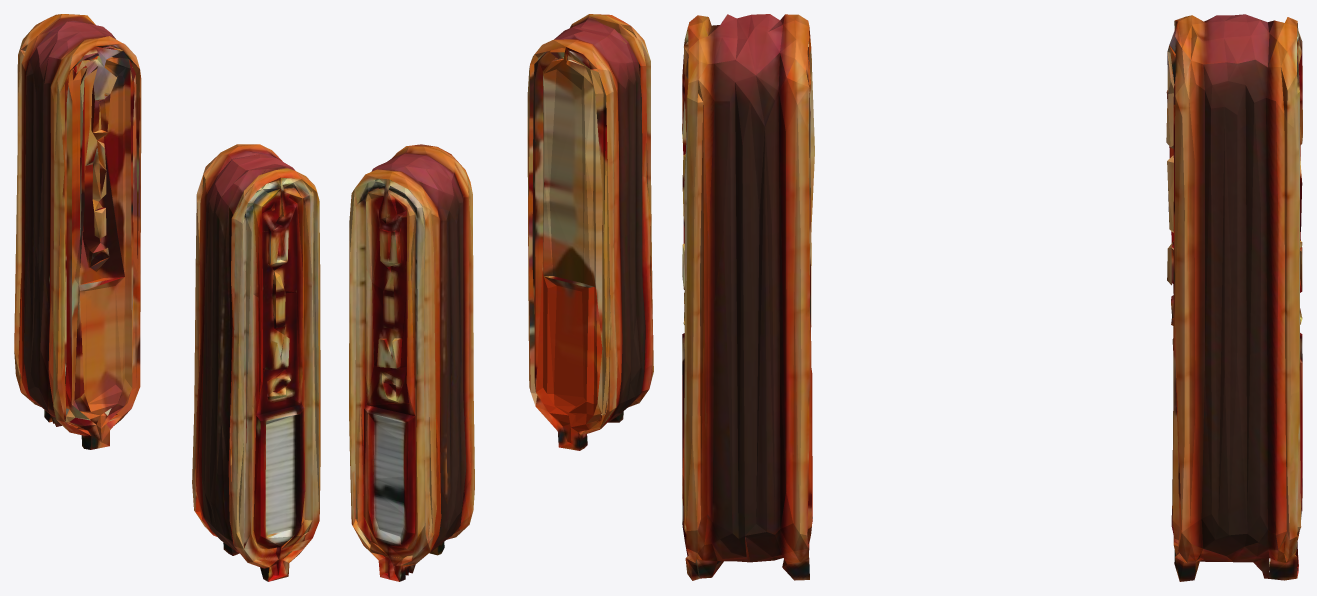
The model's file is cinema_marquee.glb.
3 views of the same model, side by side, from view 1: azimuth 30°, elevation 25°; view 2: azimuth 150°, elevation 25°; view 3: azimuth 270°, elevation 25° (orthographic). The views are drawn at different scales.
Visible parts, largest first — view 1: textured_mesh.obj; view 2: textured_mesh.obj; view 3: textured_mesh.obj.
Boxes of the visible parts, x1=… form: textured_mesh.obj: x1=14, y1=14, x2=320, y2=581; textured_mesh.obj: x1=349, y1=14, x2=653, y2=581; textured_mesh.obj: x1=682, y1=14, x2=1302, y2=581.
Size of the model in its own units: 0.7621 by 3.2 by 3.25.
1 material, 1 textured.
